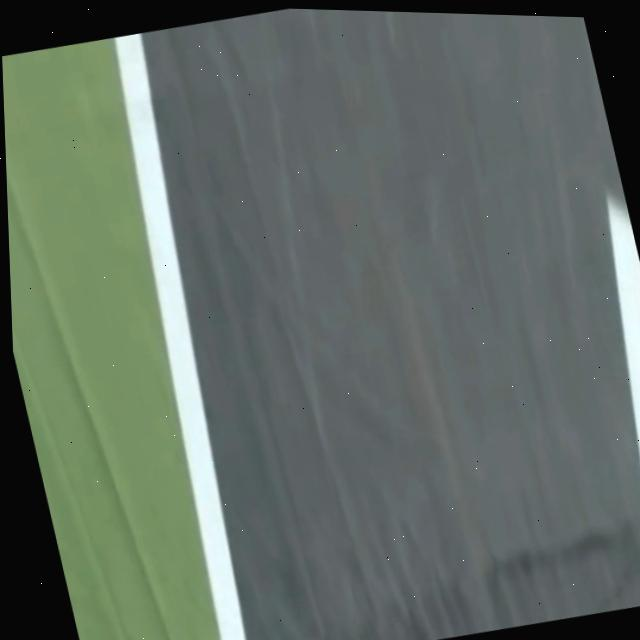center: (608, 197, 640, 454)
right: (115, 33, 248, 640)
